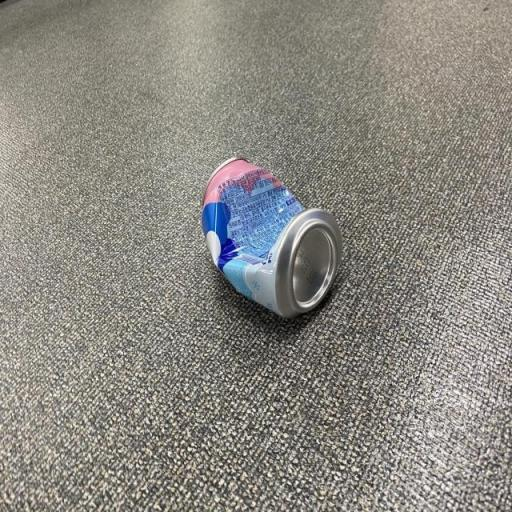metal: (194, 140, 360, 338)
